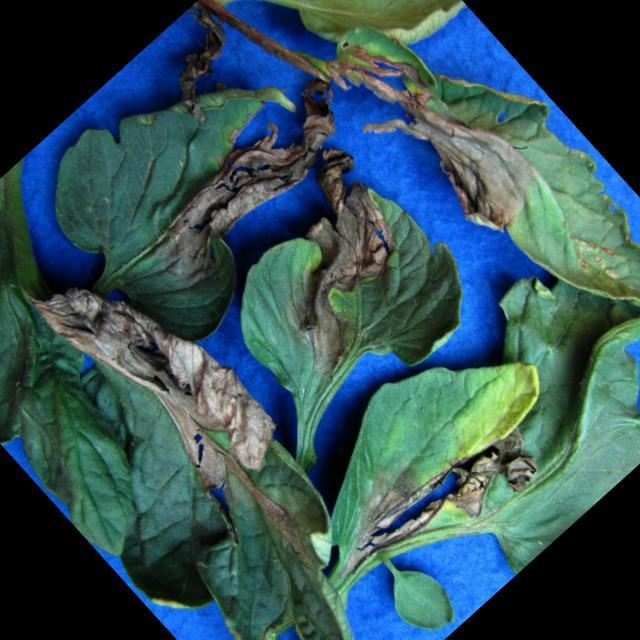Tomato late blight leaf: (0, 269, 457, 640), (0, 2, 392, 390), (325, 0, 640, 410), (254, 312, 609, 640), (187, 154, 502, 464)
